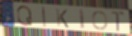I: (79, 9, 86, 31), (41, 6, 47, 28)
K: (55, 8, 70, 29)
O: (91, 10, 109, 31)
Q: (16, 5, 34, 27)
T: (110, 10, 126, 33)
